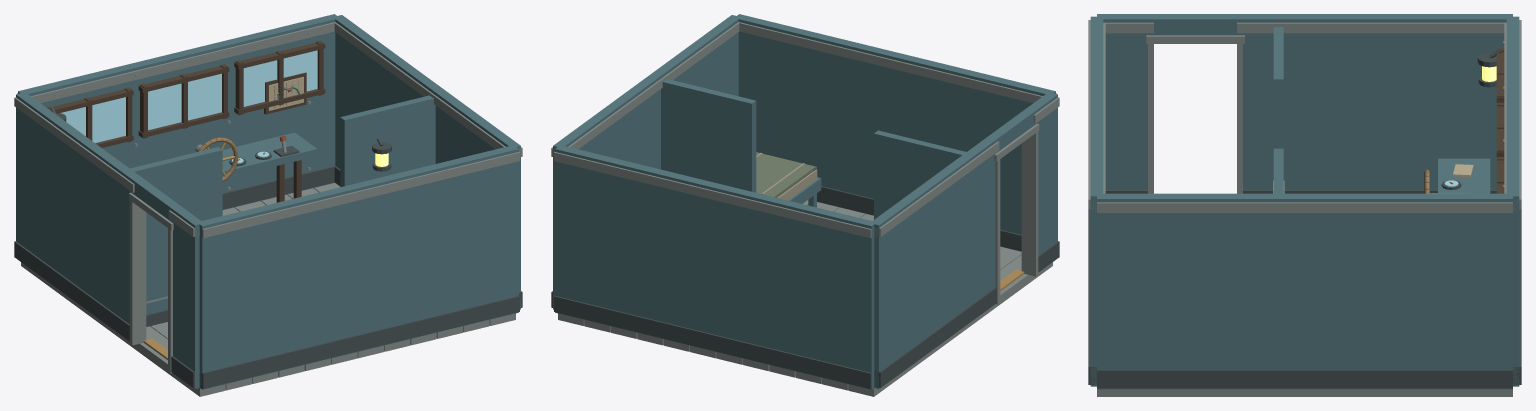
Rendered from vessel_wheelhouse.glb.
The picture shows the model from 3 angles, left to right: view 1: azimuth 30°, elevation 25°; view 2: azimuth 150°, elevation 25°; view 3: azimuth 270°, elevation 25°; orthographic projection. The views are drawn at different scales.
Parts seen in each view (by area): view 1: Wall_South, Wall_North, Wall_West, BulkheadUpper, Wall_East, Floor, Furniture, BulkheadLow; view 2: Wall_North, Wall_South, Wall_West, BulkheadUpper, Wall_East, Floor, Furniture; view 3: Wall_East, Wall_West, Wall_North, Wall_South, Floor, Furniture, BulkheadUpper.
Part boxes in pixels (x1,y1,x2,y2): Wall_South: (197,146,519,389); Wall_North: (17,14,337,209); Wall_West: (14,93,201,388); BulkheadUpper: (130,95,435,301); Wall_East: (333,15,522,309); Floor: (21,183,515,396); Furniture: (195,132,317,202); BulkheadLow: (146,296,167,326); Wall_North: (554,146,876,389); Wall_South: (736,14,1056,251); Wall_West: (872,93,1059,388); BulkheadUpper: (661,79,966,219); Wall_East: (551,15,740,309); Floor: (558,200,1052,396); Furniture: (756,152,821,207); Wall_East: (1097,193,1512,389); Wall_West: (1097,14,1512,193); Wall_North: (1477,16,1521,386); Wall_South: (1088,16,1105,386); Floor: (1097,389,1512,396); Furniture: (1424,158,1490,193); BulkheadUpper: (1273,27,1283,193).
Size of the model in its own units: 4.9 by 2.45 by 4.79.
